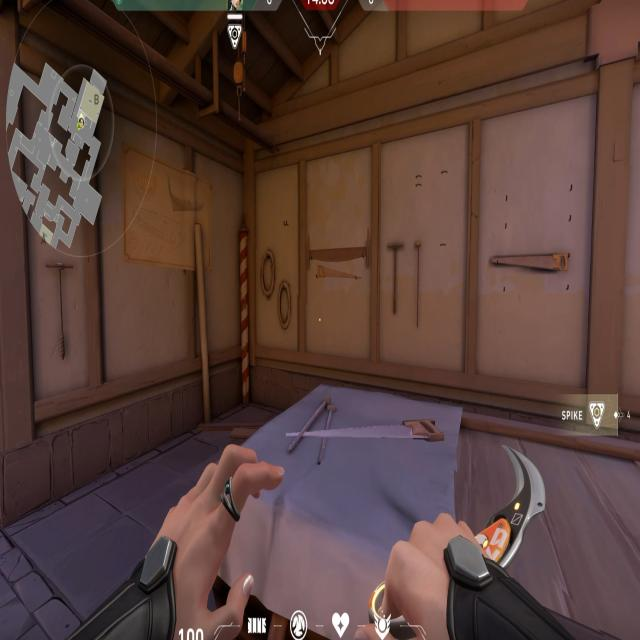B_Garage_Left: (93, 40, 420, 505)
